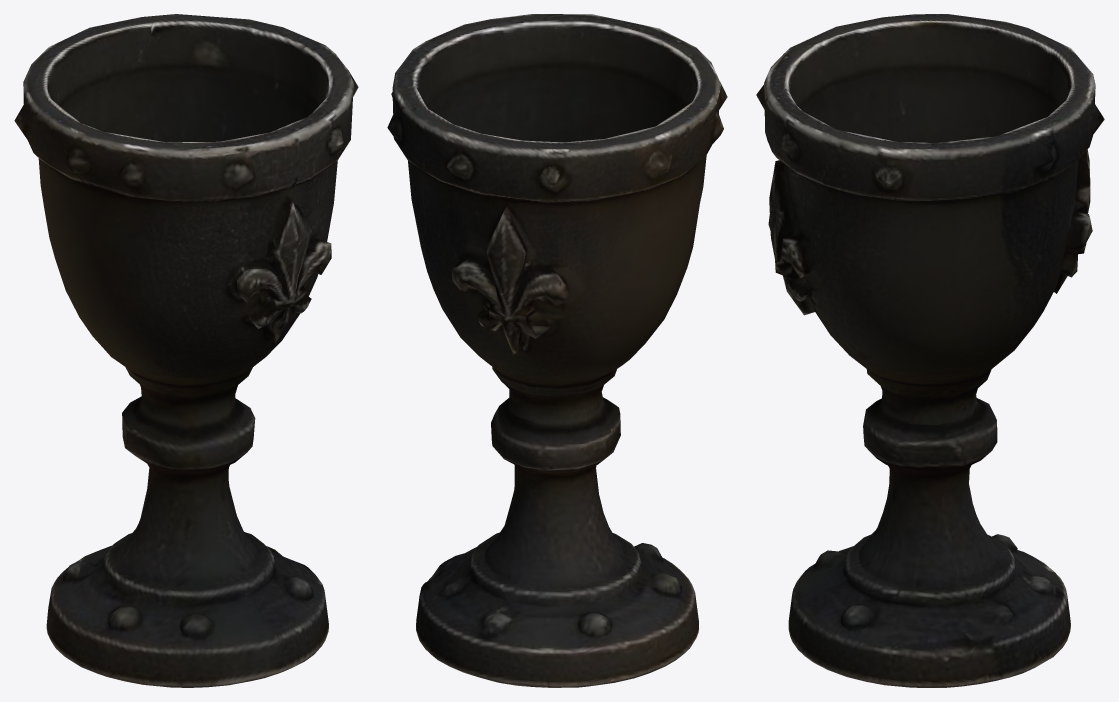
File: cup_chalise_small.fbx
The picture shows the model from 3 angles, left to right: view 1: azimuth 30°, elevation 25°; view 2: azimuth 150°, elevation 25°; view 3: azimuth 270°, elevation 25°; orthographic projection.
Parts seen in each view (by area): view 1: cup_chalise_small; view 2: cup_chalise_small; view 3: cup_chalise_small.
Part boxes in pixels (x1,y1,x2,y2): cup_chalise_small: (14,14,358,687); cup_chalise_small: (387,14,727,687); cup_chalise_small: (756,14,1104,687).
Bounding box in the file's own units: 22.94 × 40.87 × 23.54.
Materials: 1 (1 with a texture image).
